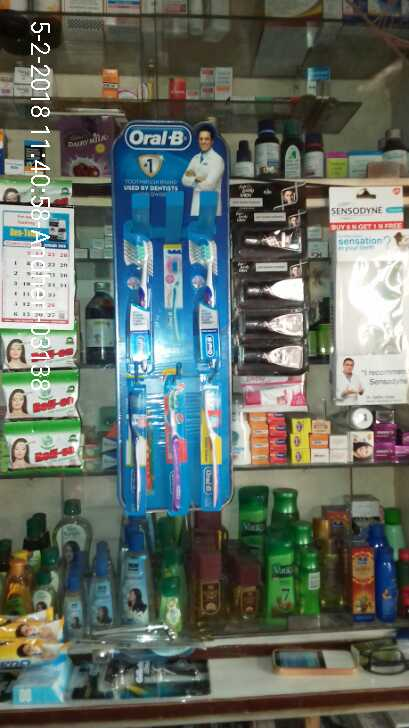oralb: (186, 232, 223, 372), (124, 230, 158, 371), (124, 375, 147, 517), (199, 383, 224, 513), (168, 384, 189, 516)
